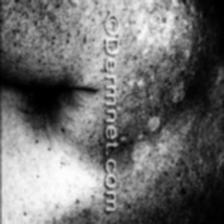Toxin: (130, 140, 148, 172), (170, 78, 186, 104), (146, 115, 160, 132)
